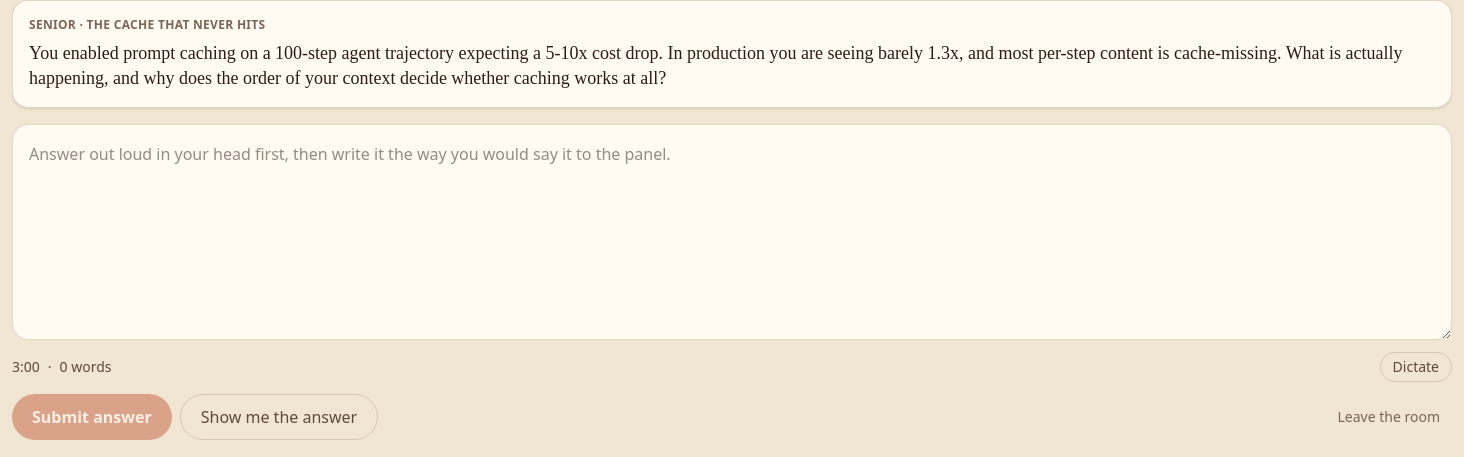
it: InterviewPanel › will not submit until the answer has enough words to be judged
The width and height of the screenshot is (1464, 457).
Expected: the button "Submit answer" is disabled, [12,394,172,440]
Type "prefix match" into the text box named "your answer" at (732, 232), box [12,124,1452,340]
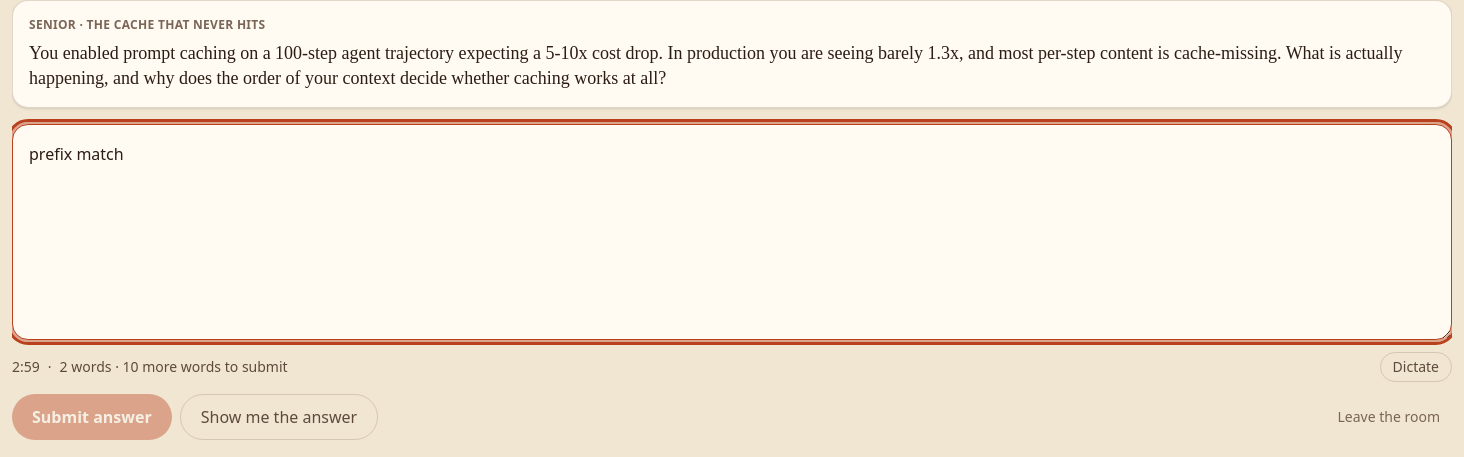
Expected: the button "Submit answer" is disabled, [12,394,172,440]
Now the text "2 words · 10 more words to submit" is shown, box [60,356,288,376]
